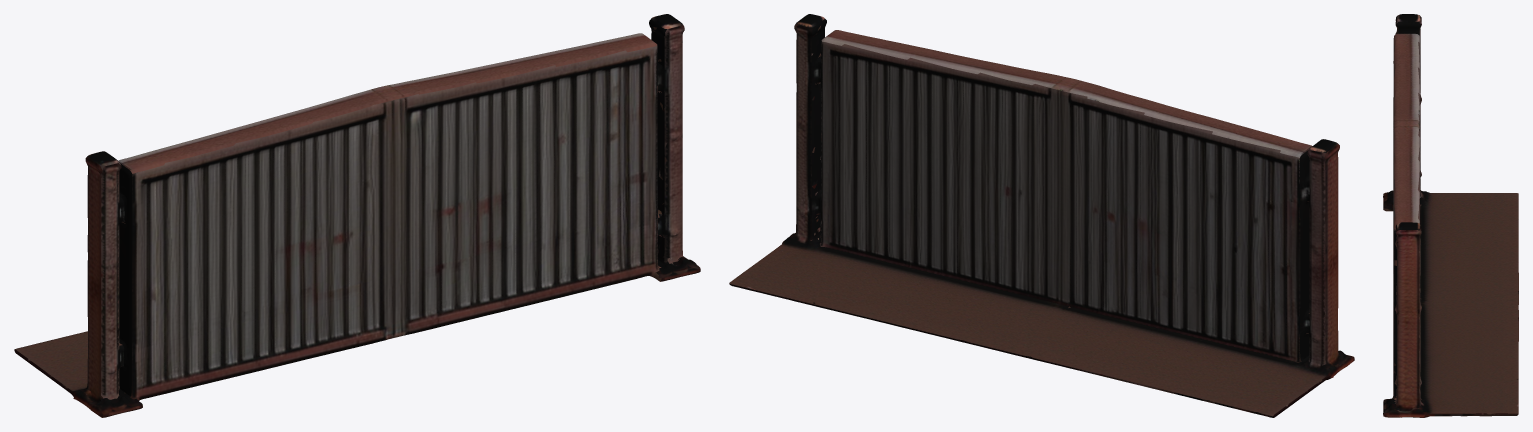
Rendered from catalog-build-46.glb.
3 views of the same model, side by side, from view 1: azimuth 30°, elevation 25°; view 2: azimuth 150°, elevation 25°; view 3: azimuth 270°, elevation 25° (orthographic). The views are drawn at different scales.
Parts seen in each view (by area): view 1: tmpl0yurwzg.ply; view 2: tmpl0yurwzg.ply; view 3: tmpl0yurwzg.ply.
Part boxes in pixels (<box>): tmpl0yurwzg.ply: <box>14,14,700,417</box>; tmpl0yurwzg.ply: <box>729,14,1354,417</box>; tmpl0yurwzg.ply: <box>1383,14,1518,417</box>.
Size of the model in its own units: 1.98 by 0.7728 by 0.5068.
1 material, 1 textured.
